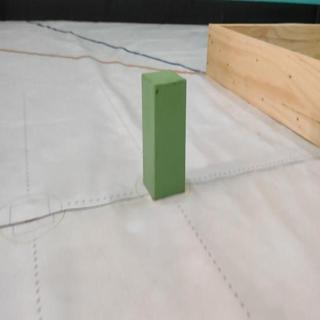greenbox: (140, 69, 189, 202)
